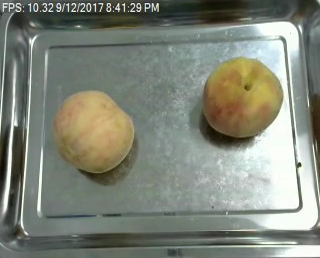Peach: (53, 88, 134, 173), (201, 56, 283, 138)
